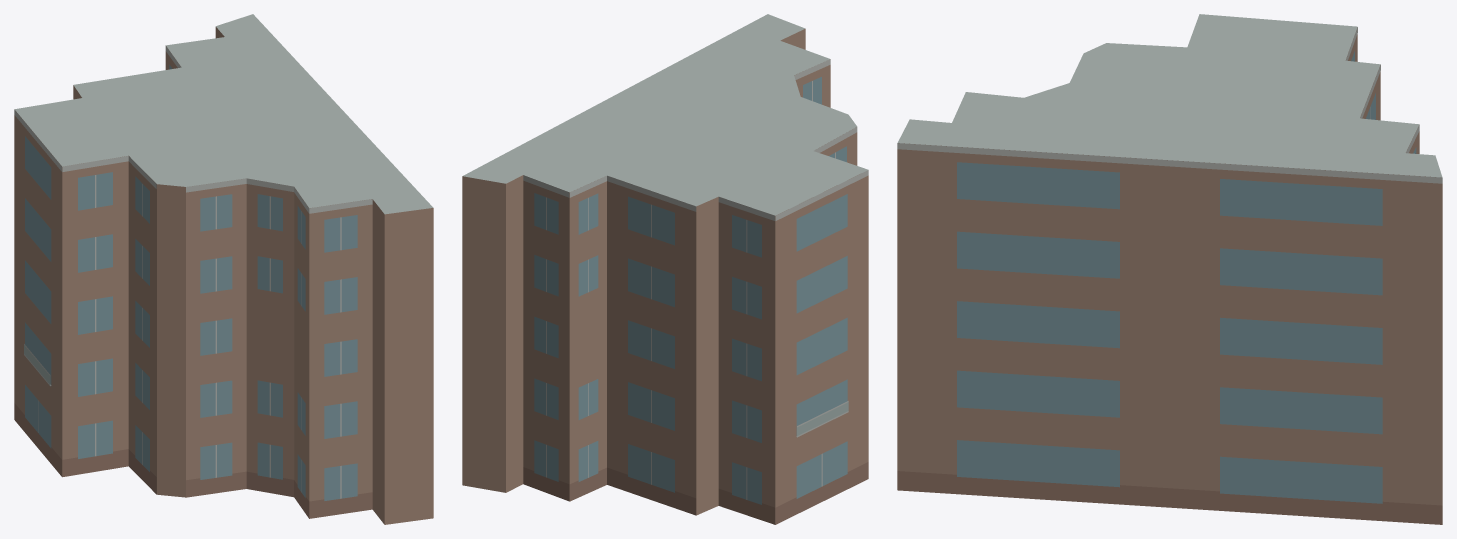
File: survey-upis-32768982.glb
3 views of the same model, side by side, from view 1: azimuth 30°, elevation 25°; view 2: azimuth 150°, elevation 25°; view 3: azimuth 270°, elevation 25° (orthographic). The views are drawn at different scales.
Visible parts, largest first — view 1: survey-upis-32768982.tmp; view 2: survey-upis-32768982.tmp; view 3: survey-upis-32768982.tmp.
Boxes of the visible parts, <box> form: survey-upis-32768982.tmp: <box>14,14,433,524</box>; survey-upis-32768982.tmp: <box>462,14,868,524</box>; survey-upis-32768982.tmp: <box>897,14,1442,524</box>.
Bounding box in the file's own units: 13.72 × 13.58 × 19.31.
